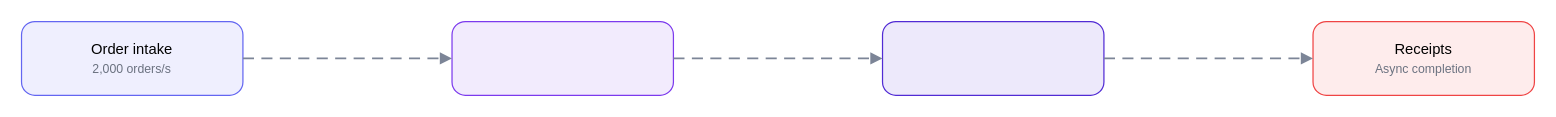
The diagram is 1556 pixels wide and 117 high, and some of its shapes have lost their labels. Each missing label, with the centre of its shape:
Billing 300 ms per order: the point at 992,57
Orders Kafka · billing consumer group: the point at 562,57
